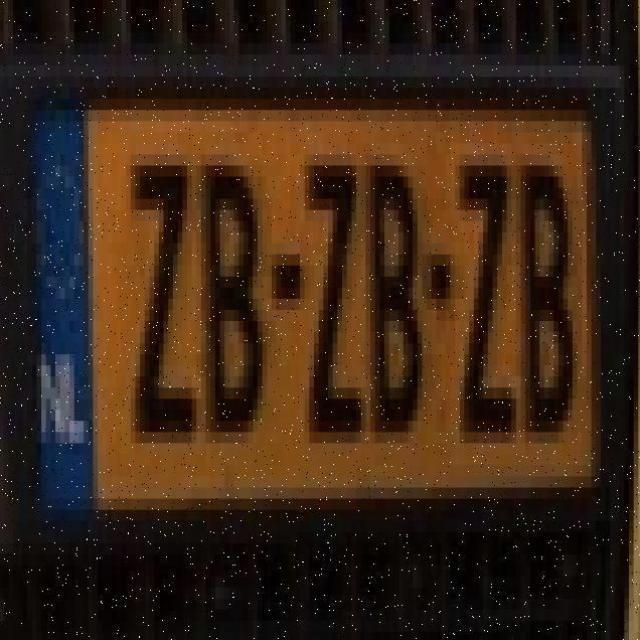License Plate: (21, 58, 609, 574)
